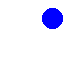circle: (42, 8, 62, 28)
